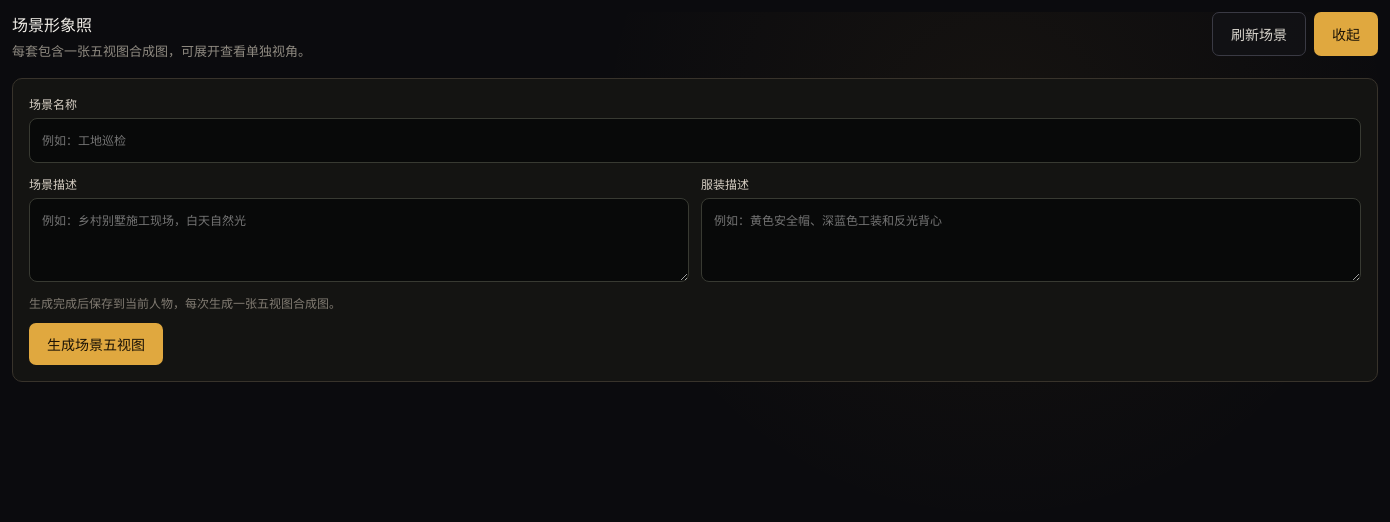
Test case: 提交回执丢失后先核对后台任务，不直接重复生成
The image size is (1390, 522).
Expected: the button "生成场景五视图" is enabled, [29,322,163,364]
Type "办公室" into the field labelled "场景名称" at coordinates (695, 140), box [29,118,1361,163]
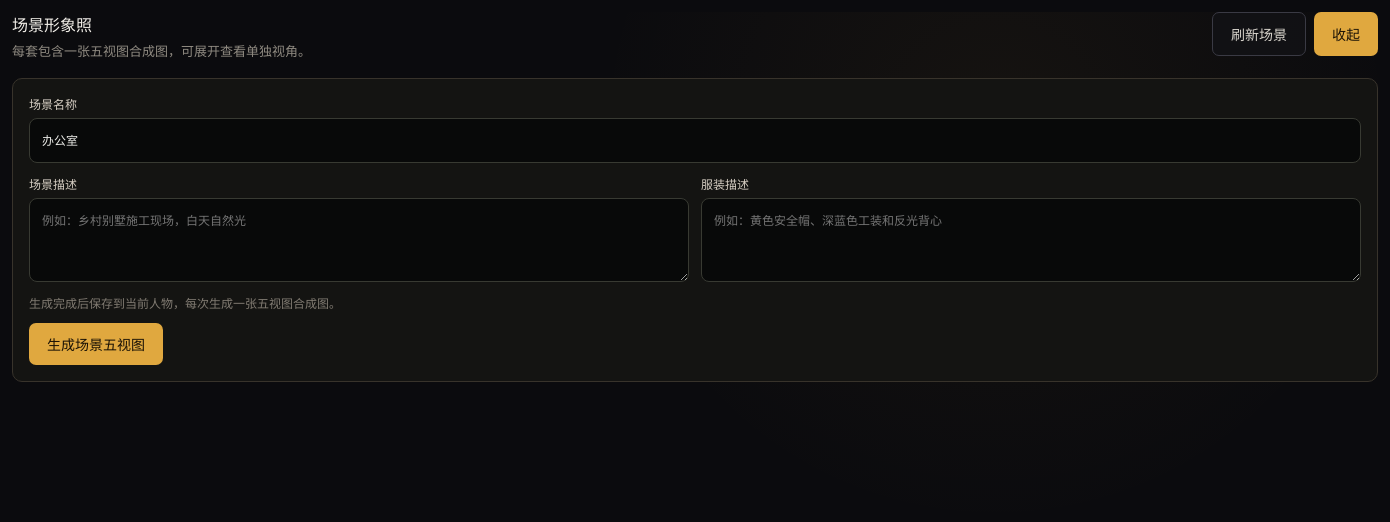
Type "日间办公室" into the text box labelled "场景描述" at coordinates (359, 240), box [29,198,689,282]
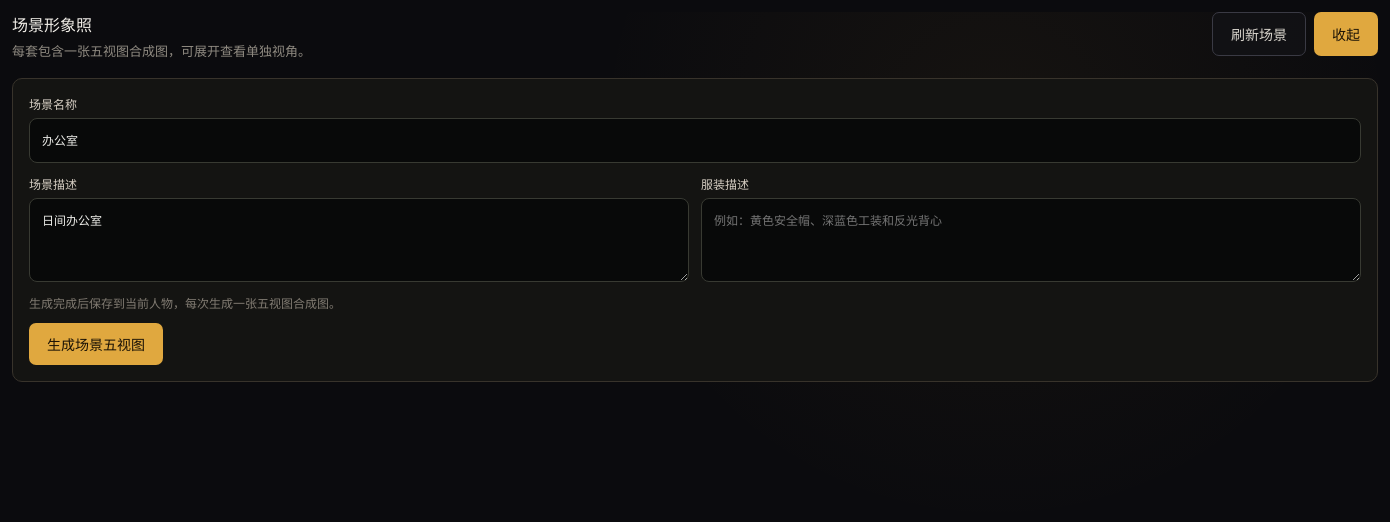
Type "西装" into the text box labelled "服装描述" at coordinates (1031, 240), box [701,198,1361,282]
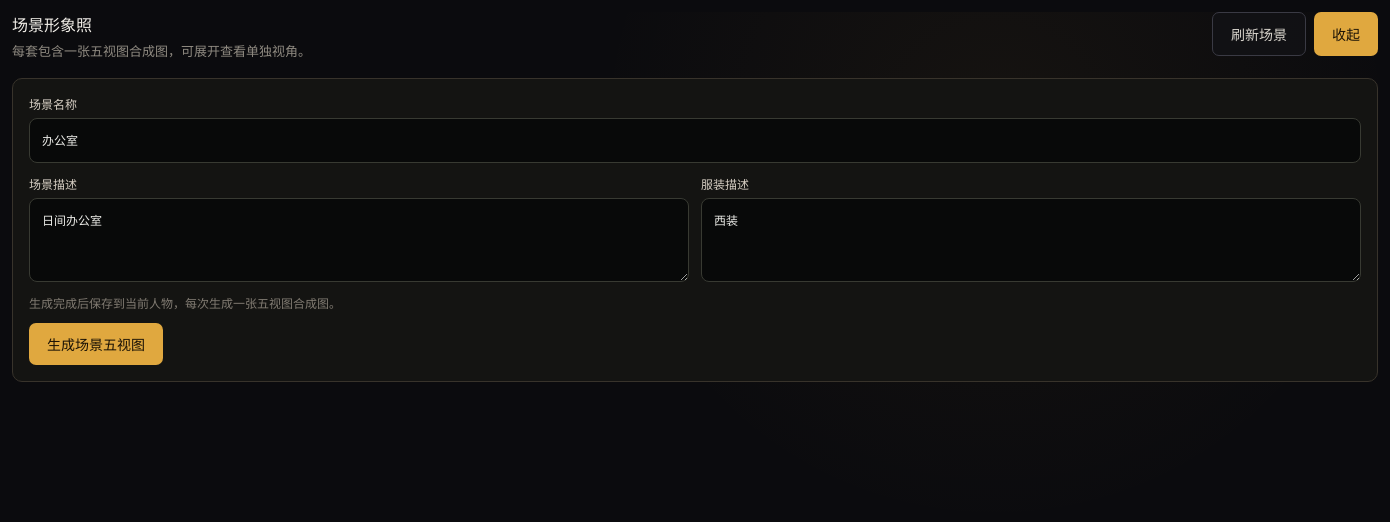
Click the button "生成场景五视图" at coordinates (96, 344), box [29,322,163,364]
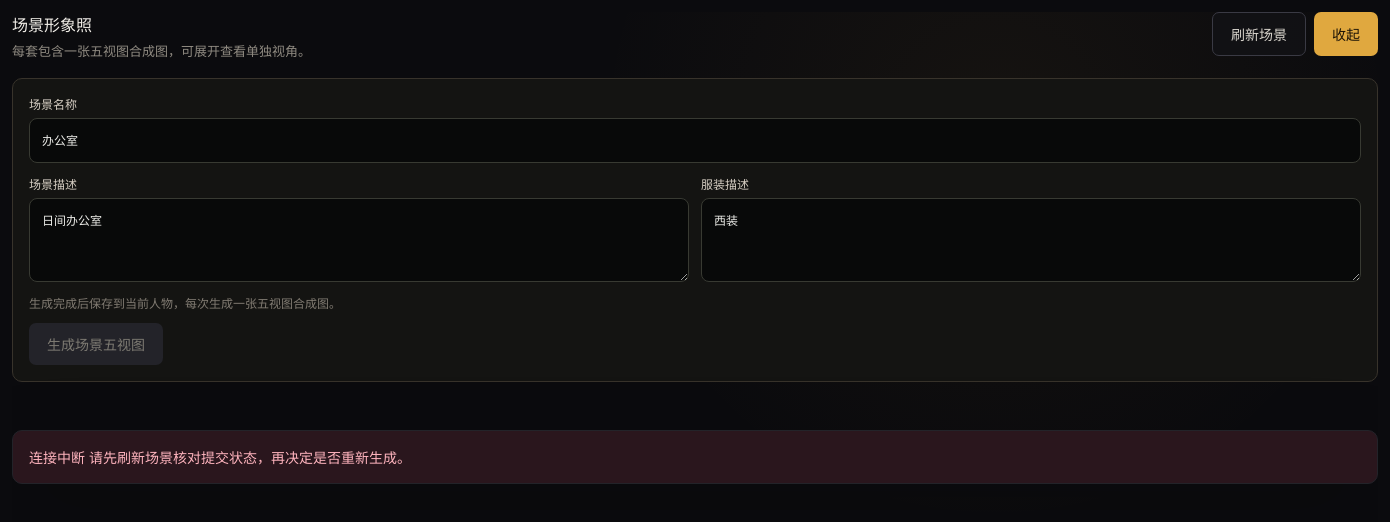
Expected: the text "连接中断 请先刷新场景核对提交状态，再决定是否重新生成。" is shown, [12,430,1378,484]
Expected: the button "生成场景五视图" is disabled, [29,322,163,364]
Click the button "刷新场景" at coordinates (1259, 34), box [1212,12,1306,56]
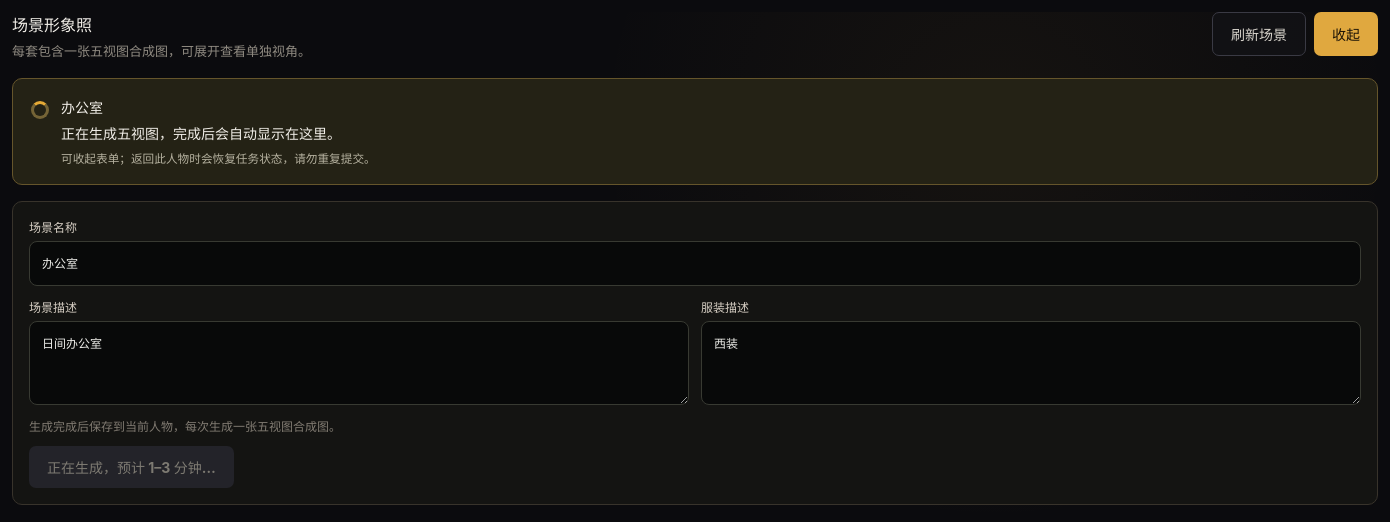
Expected: the message named "场景造型生成进度" shows "正在生成五视图", [61,125,341,142]
